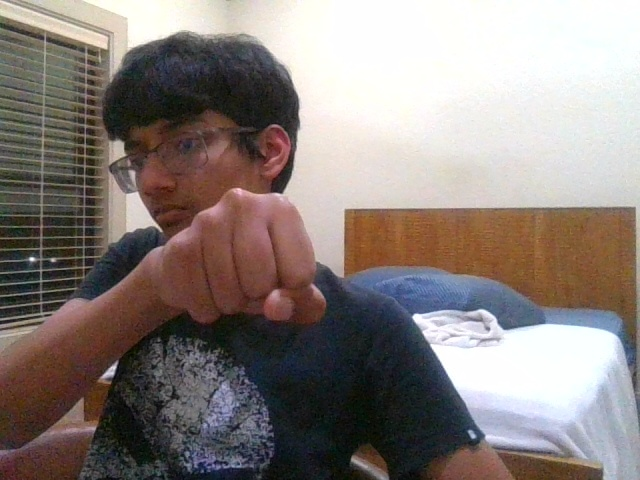yes: (162, 188, 326, 326)
